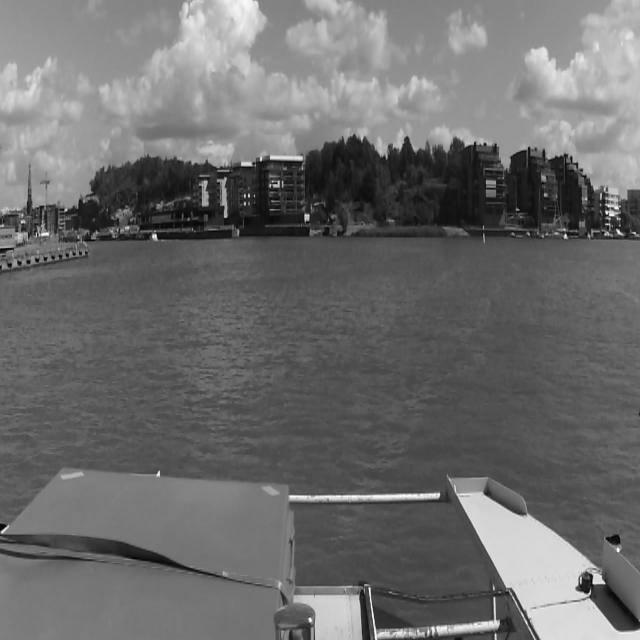buoy: (483, 224, 485, 244)
ship: (148, 228, 158, 242), (510, 231, 516, 238), (525, 231, 530, 238)
